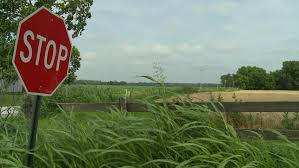stop_sign: (12, 5, 72, 97)
